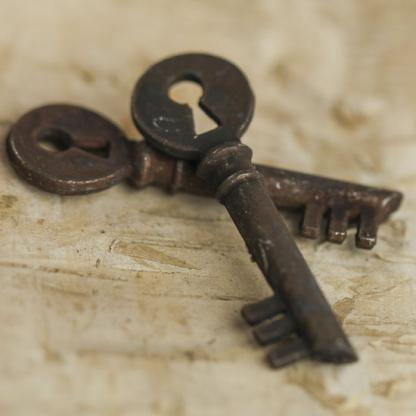key: (128, 52, 359, 387), (9, 103, 405, 246)
